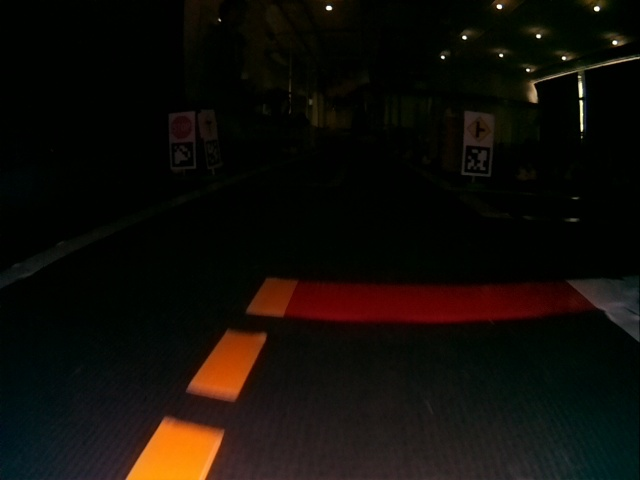Intersection sign: (467, 116, 492, 142), (204, 112, 216, 138)
QR code: (464, 148, 491, 174), (171, 144, 195, 166), (206, 141, 221, 167)
Stop sign: (170, 115, 192, 141)
